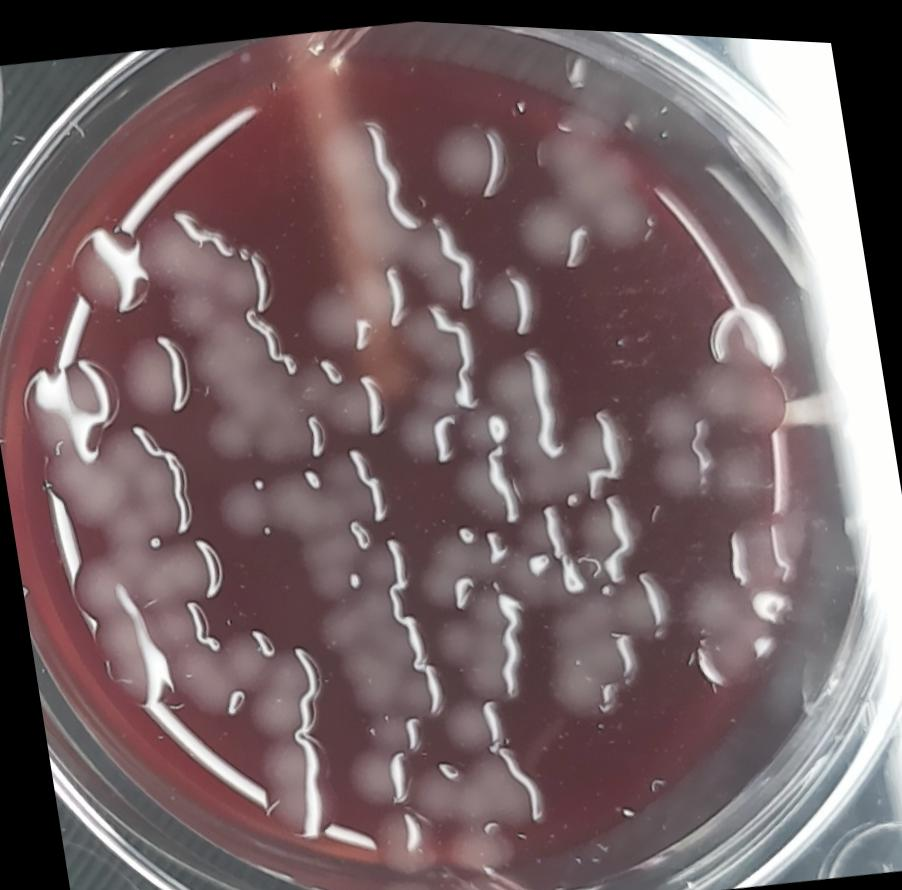vharveyi: (192, 342, 396, 484), (502, 103, 658, 272), (33, 406, 205, 559), (490, 327, 630, 506), (533, 553, 686, 714), (134, 195, 284, 341), (211, 453, 397, 555), (308, 97, 417, 266), (382, 291, 491, 456), (70, 528, 227, 625), (411, 732, 547, 838), (422, 576, 538, 700), (301, 251, 416, 353), (18, 345, 126, 447), (56, 215, 155, 323), (411, 516, 515, 612), (690, 345, 796, 439), (104, 321, 200, 424), (242, 633, 330, 739), (342, 700, 430, 806), (426, 104, 520, 203), (398, 206, 482, 311), (568, 480, 649, 568), (164, 635, 244, 719), (369, 799, 443, 885), (471, 255, 547, 335), (641, 372, 707, 449), (436, 684, 504, 754), (217, 617, 280, 692), (650, 439, 714, 496)
